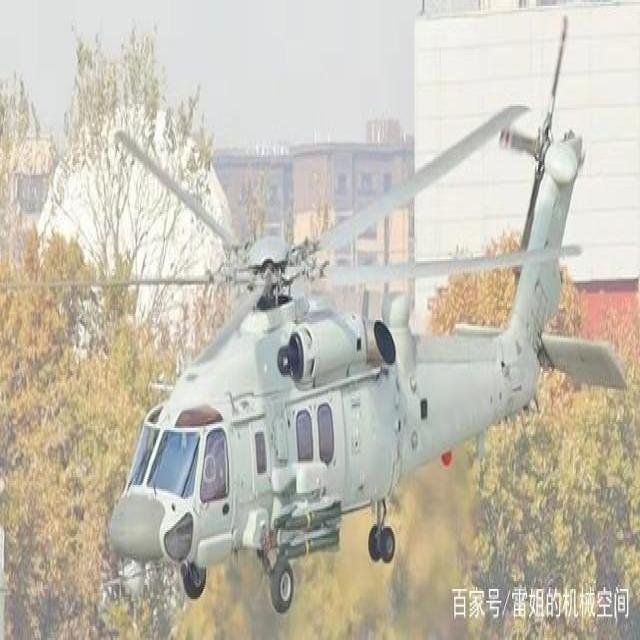MIL_HELO: (72, 69, 583, 610)
